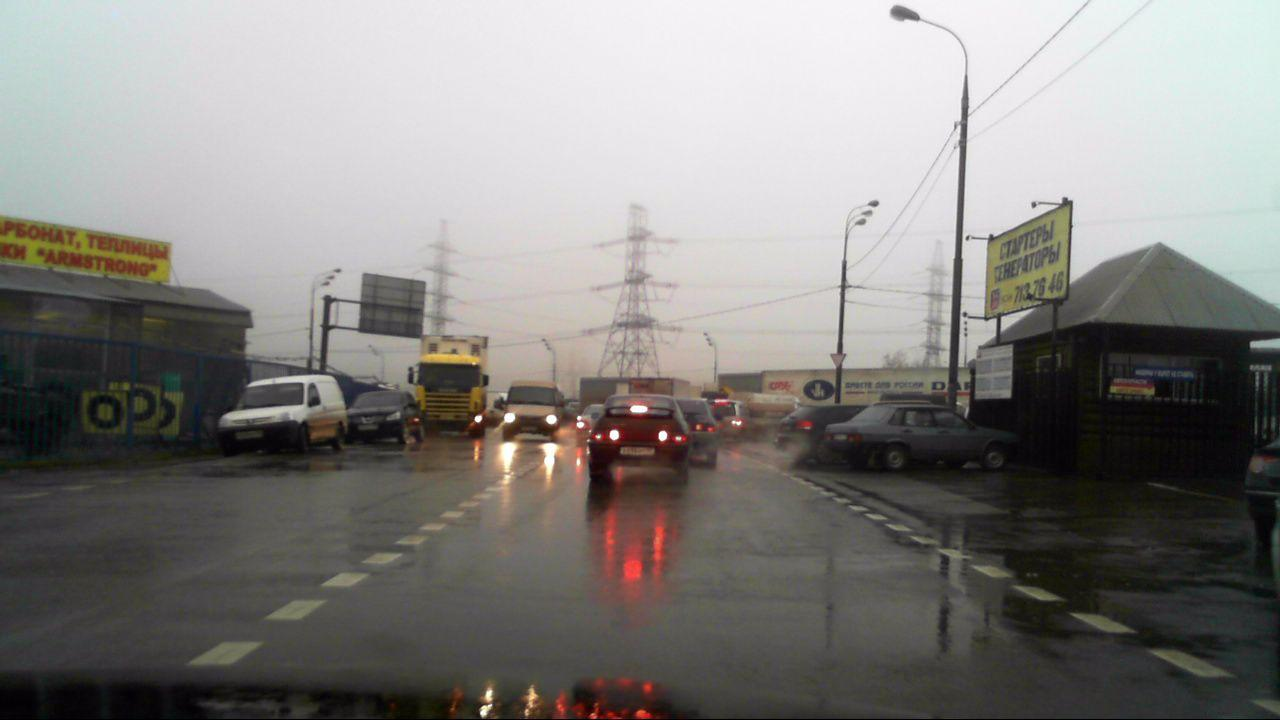road_sign: (830, 353, 847, 368)
